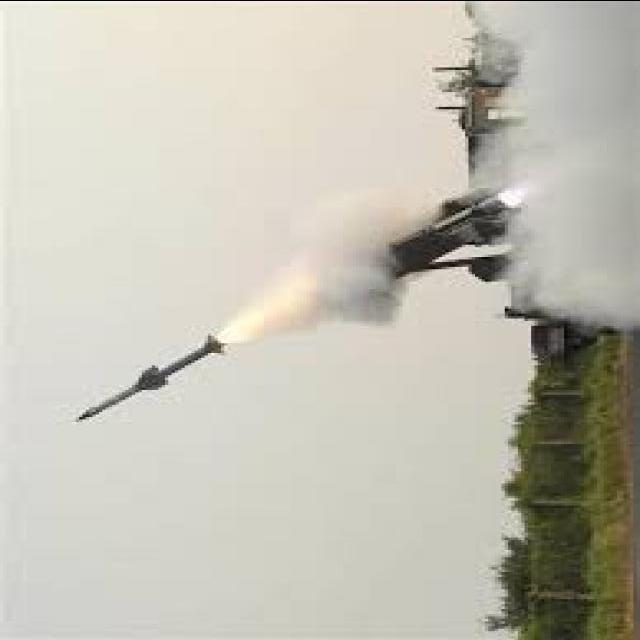missile: (74, 333, 228, 416)
